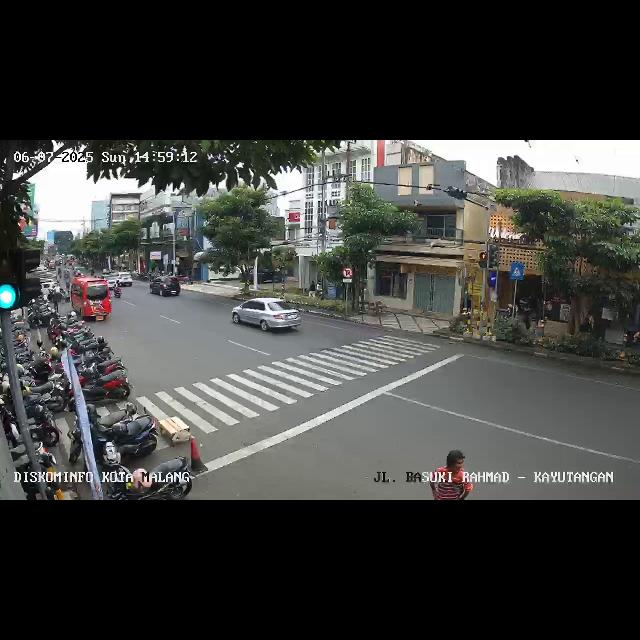car: (230, 296, 302, 336), (70, 278, 111, 322), (149, 274, 181, 298), (112, 272, 134, 286)
motorcycle: (112, 279, 124, 299)
person: (427, 444, 475, 500)
